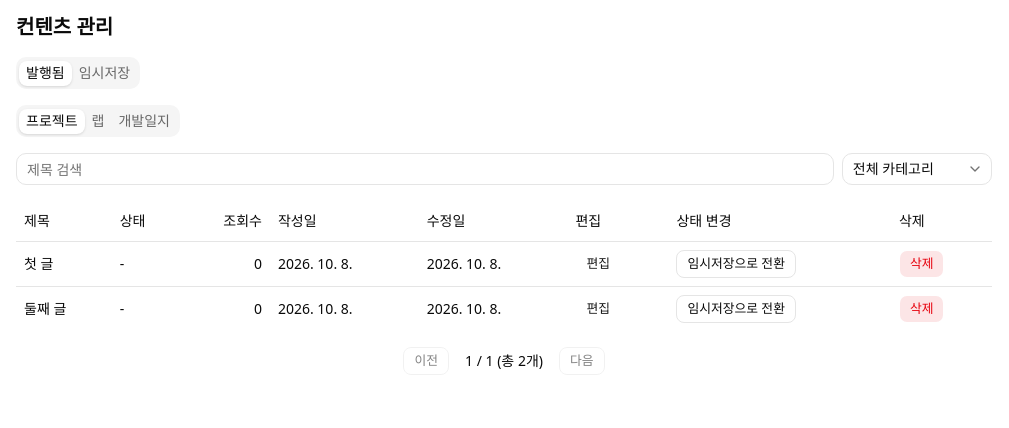
Test: PostListPage 발행 전환 › 예외 › 네트워크 오류이면 같은 위치에 네트워크 문구가 보이고 버튼이 다시 활성화돼야 한다
This screenshot has width=1009, height=428.
Expected: the text "첫 글" is shown, [16,241,112,286]
Click the button "임시저장으로 전환" in the row of "첫 글": (736, 264) [676,250,796,278]
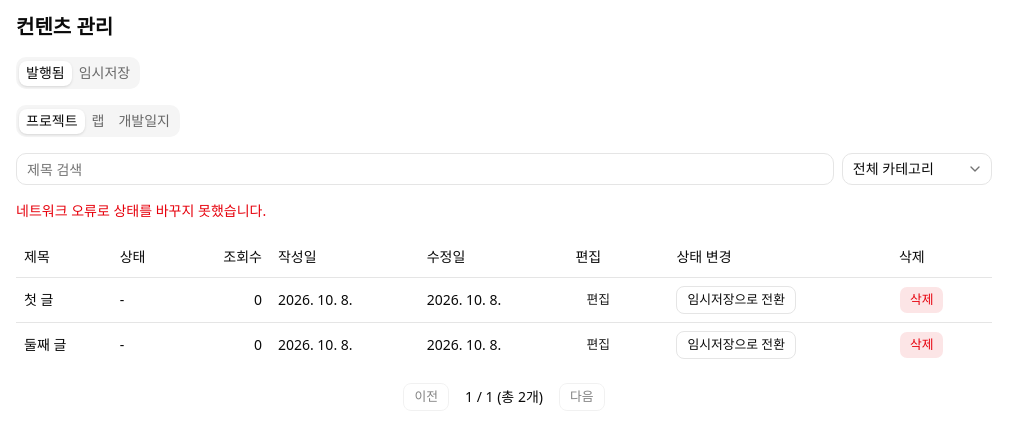
Expected: the button "임시저장으로 전환" in the row of "첫 글" is enabled, [676,286,796,314]
Result: the message reads "네트워크 오류로 상태를 바꾸지 못했습니다." at [16,201,266,220]
